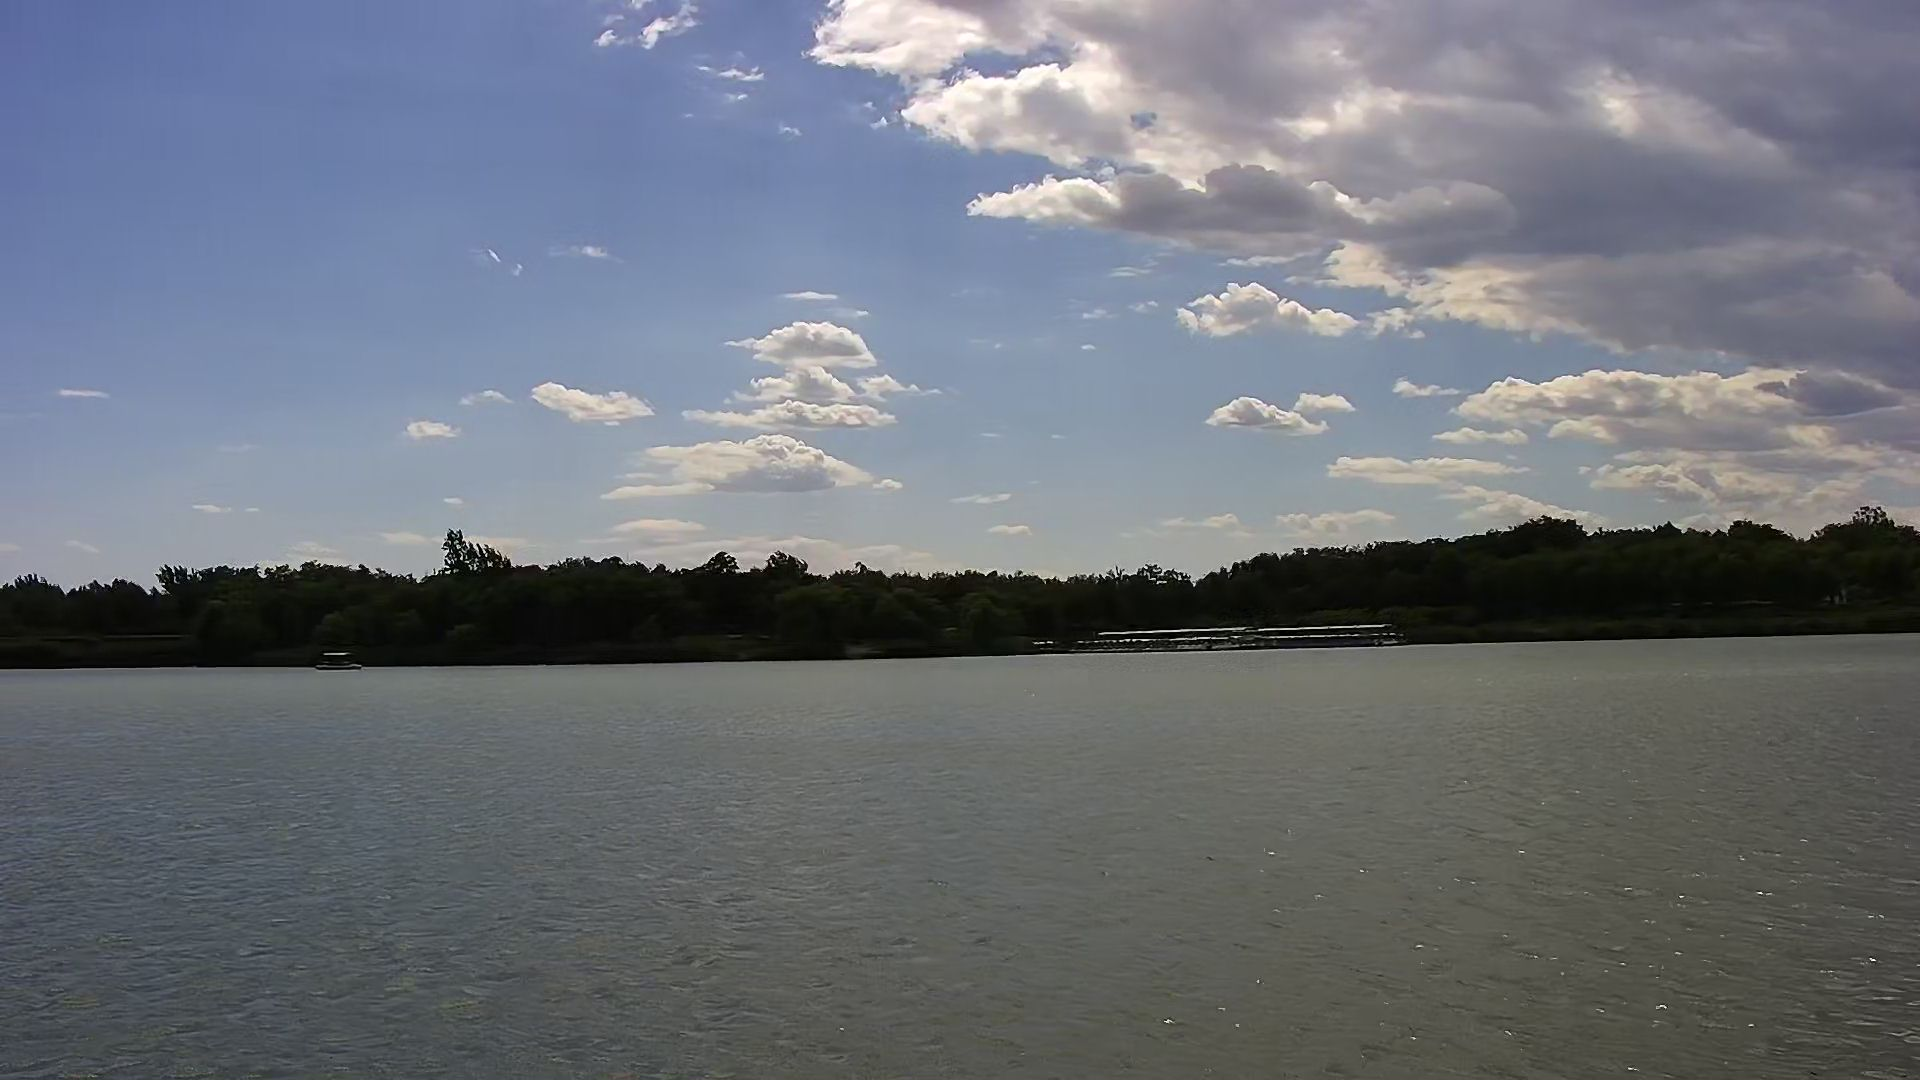boat: (313, 642, 367, 674)
harbor: (1051, 617, 1414, 651)
